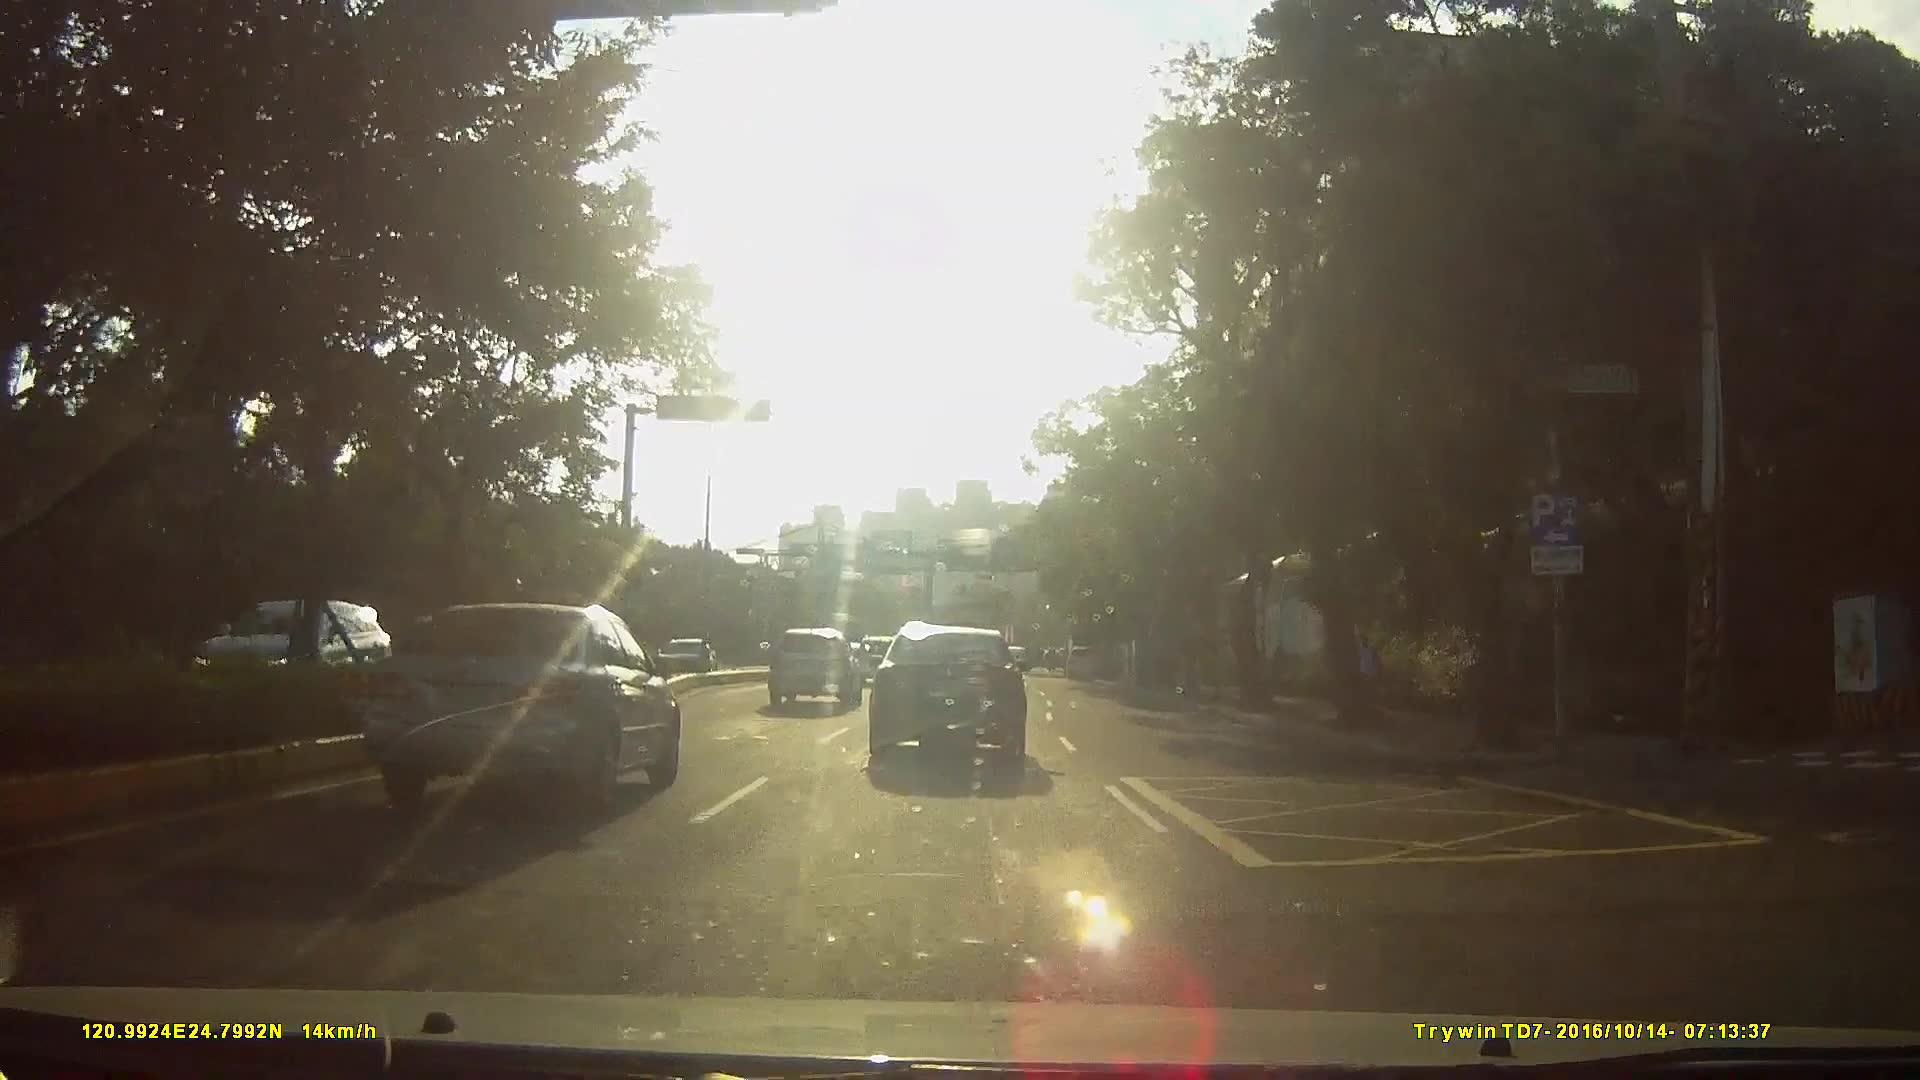vehicle: (356, 599, 678, 810), (865, 622, 1043, 767), (183, 593, 393, 712), (764, 622, 862, 707), (640, 632, 700, 676), (1060, 645, 1098, 680)
